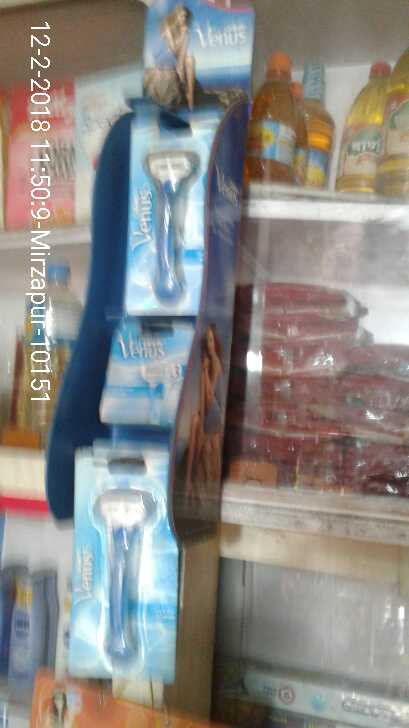venus: (69, 453, 180, 683), (124, 120, 205, 314), (98, 324, 184, 423)
